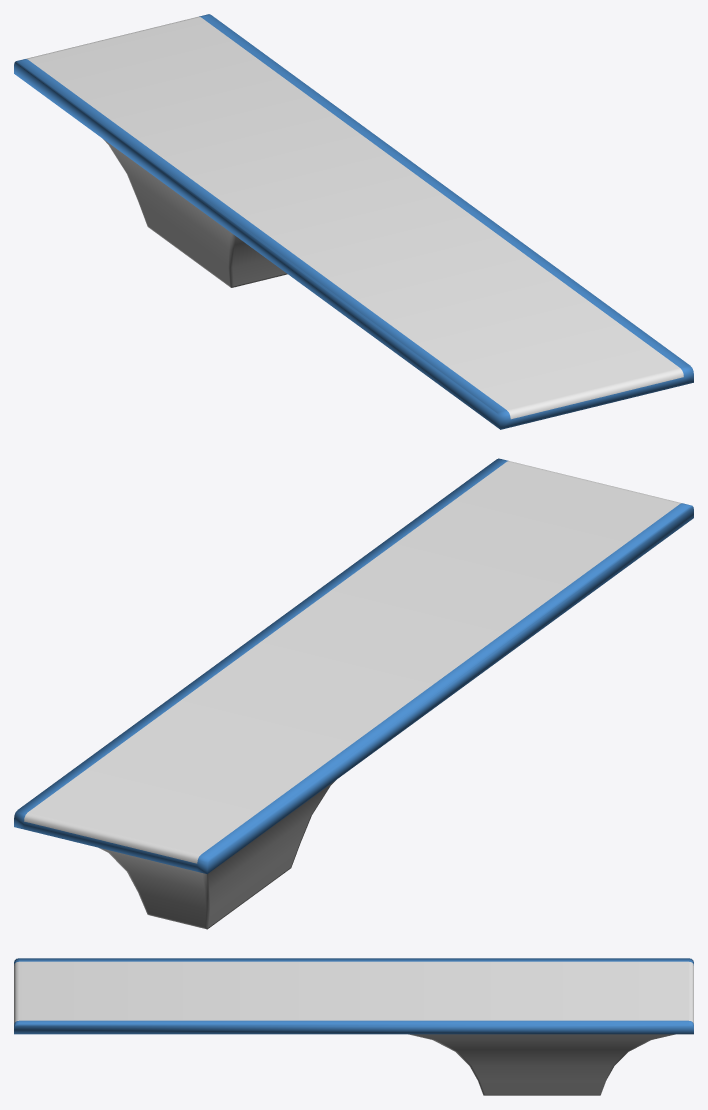
The model's file is sweethome3d-scopia-diving-board-194.glb.
3 renders of one model, top to bottom at view 1: azimuth 30°, elevation 25°; view 2: azimuth 150°, elevation 25°; view 3: azimuth 270°, elevation 25°, orthographic. The views are drawn at different scales.
Parts seen in each view (by area): view 1: table_Cube, base_Cube.001; view 2: table_Cube, base_Cube.001; view 3: table_Cube, base_Cube.001.
Boxes of the visible parts, left/top/right/bottom form: table_Cube: left=14, top=14, right=693, bottom=429; base_Cube.001: left=103, top=139, right=287, bottom=287; table_Cube: left=14, top=458, right=693, bottom=874; base_Cube.001: left=98, top=780, right=335, bottom=929; table_Cube: left=14, top=958, right=693, bottom=1034; base_Cube.001: left=408, top=1034, right=675, bottom=1095.
Size of the model in its own units: 42 by 28 by 183.
